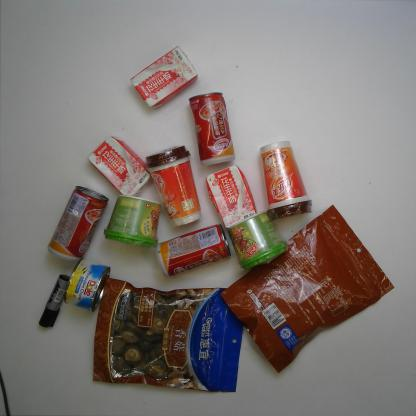Canned Food: (47, 185, 108, 260), (156, 223, 232, 277), (188, 92, 235, 166), (64, 258, 110, 312)
Dried Food: (221, 203, 396, 376), (90, 276, 244, 394)
Instant Drink: (145, 145, 201, 228), (259, 140, 313, 219), (226, 212, 289, 271), (103, 194, 163, 247)
Milk: (131, 45, 197, 109), (86, 136, 150, 199), (204, 166, 257, 230)
Stationery: (39, 274, 69, 328)
